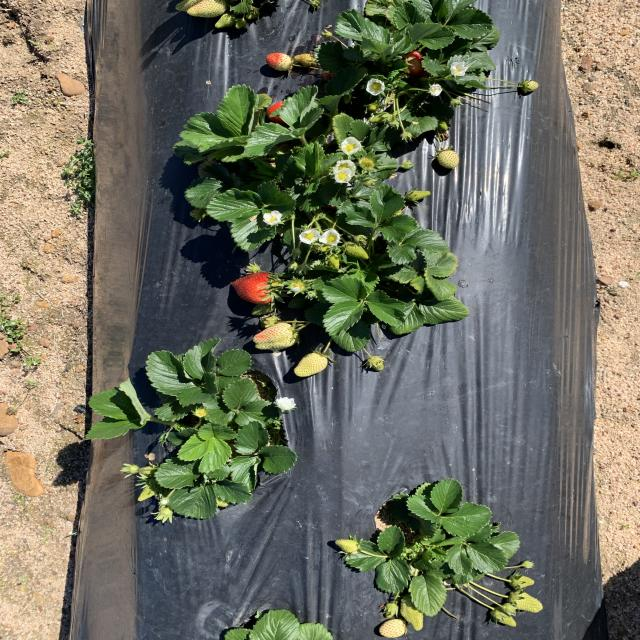unripe: (231, 272, 281, 305), (261, 100, 312, 130), (393, 44, 430, 78)
